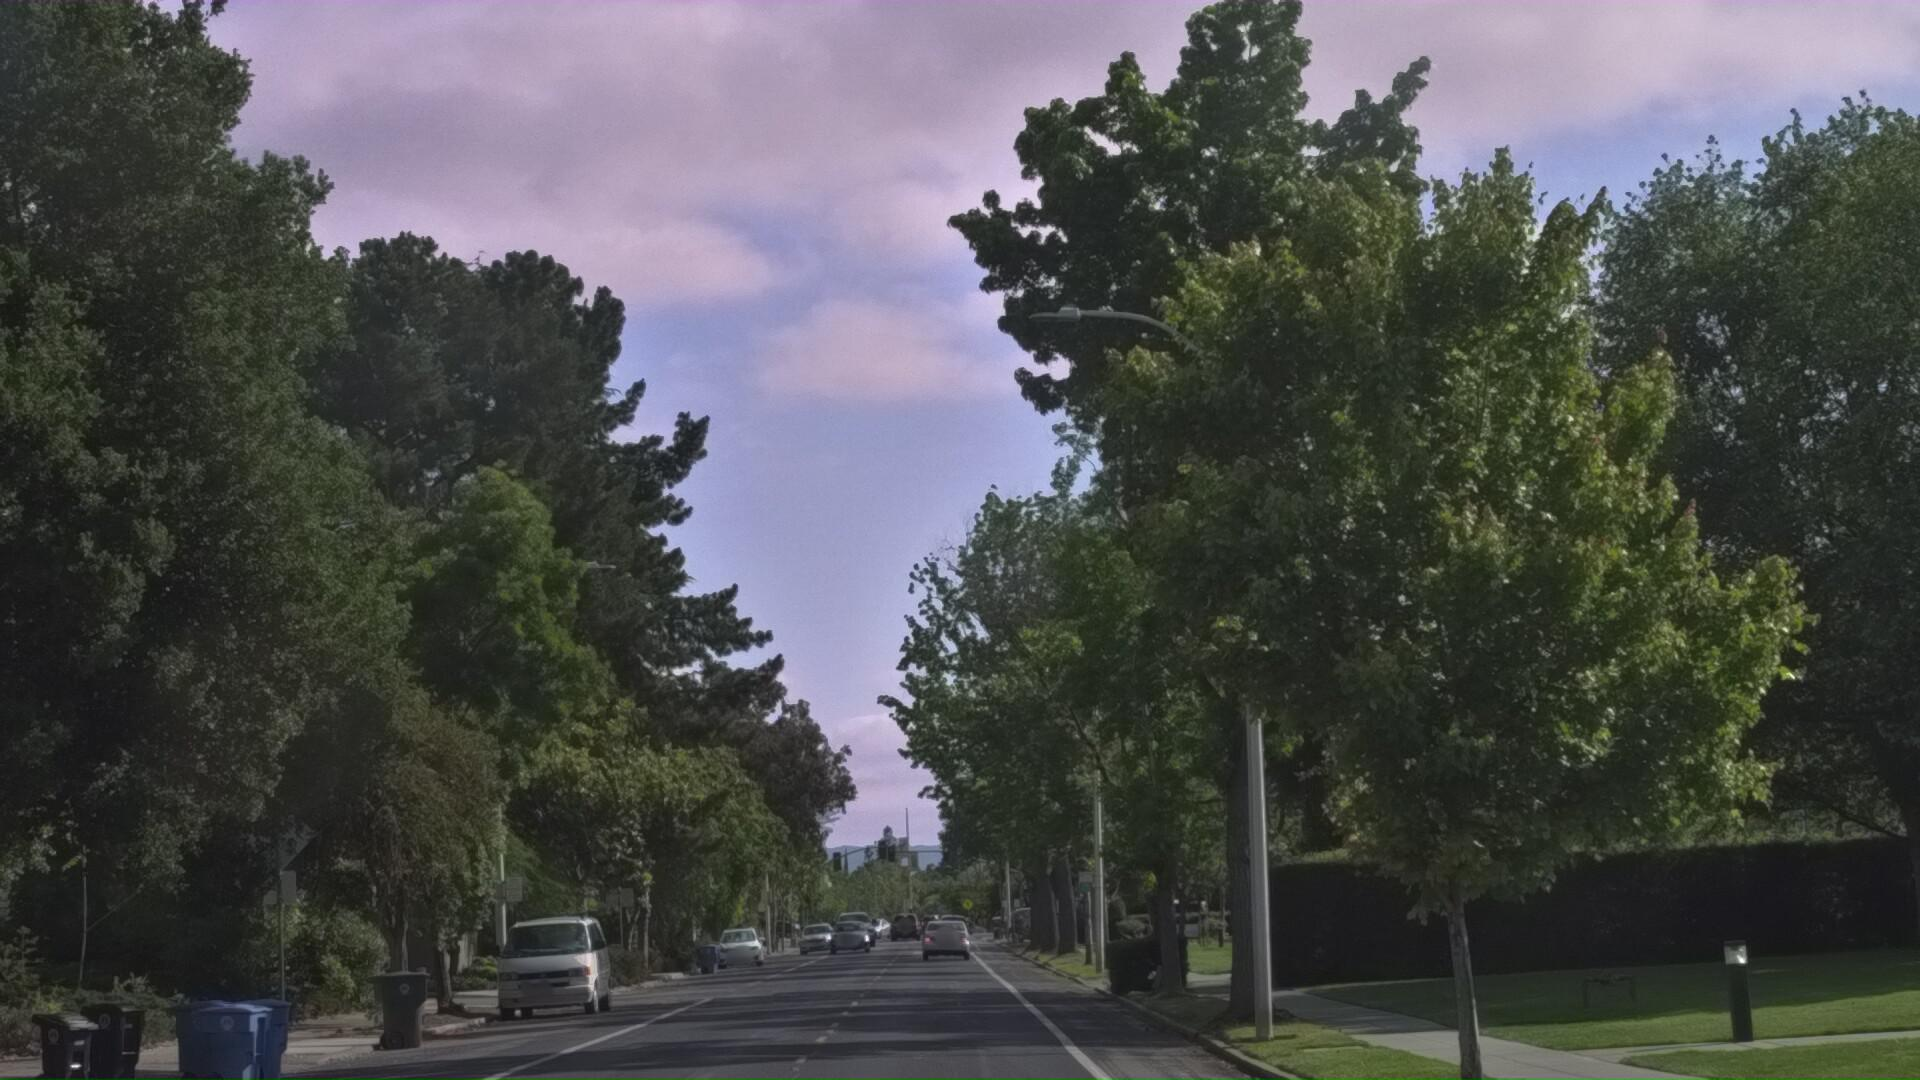car: (484, 1013, 630, 1080)
